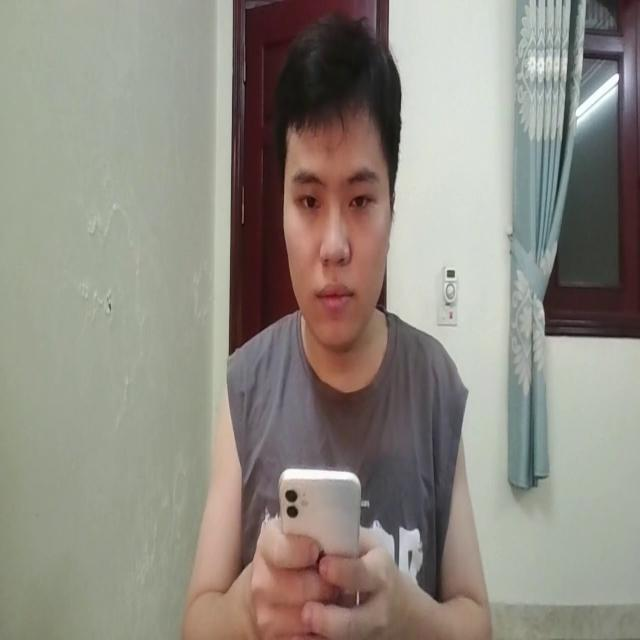phone: (279, 460, 366, 619)
student: (196, 26, 486, 640)
